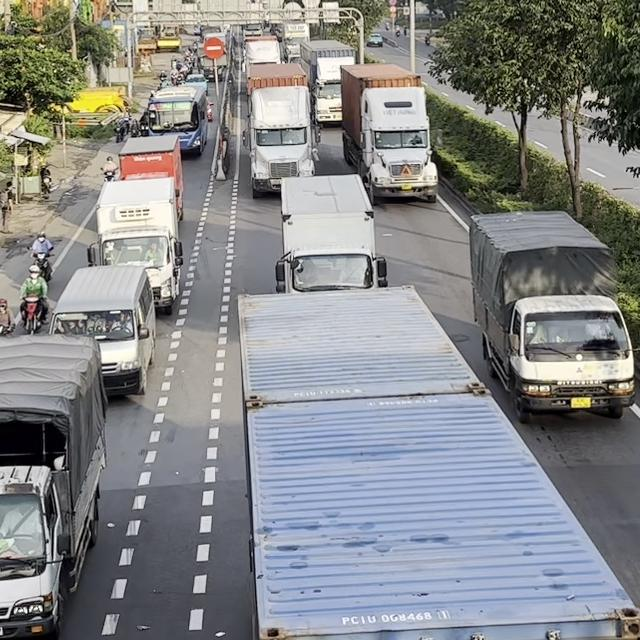bus: (137, 84, 211, 156)
motorcycle: (19, 294, 48, 335), (29, 249, 54, 282), (100, 166, 116, 182)
truck: (236, 283, 639, 639), (468, 208, 636, 423), (0, 332, 108, 639), (47, 263, 156, 397), (340, 62, 438, 203), (274, 173, 388, 293), (86, 176, 183, 314), (242, 62, 321, 198), (117, 133, 184, 221), (299, 39, 356, 126), (243, 34, 283, 94), (270, 21, 310, 62)
